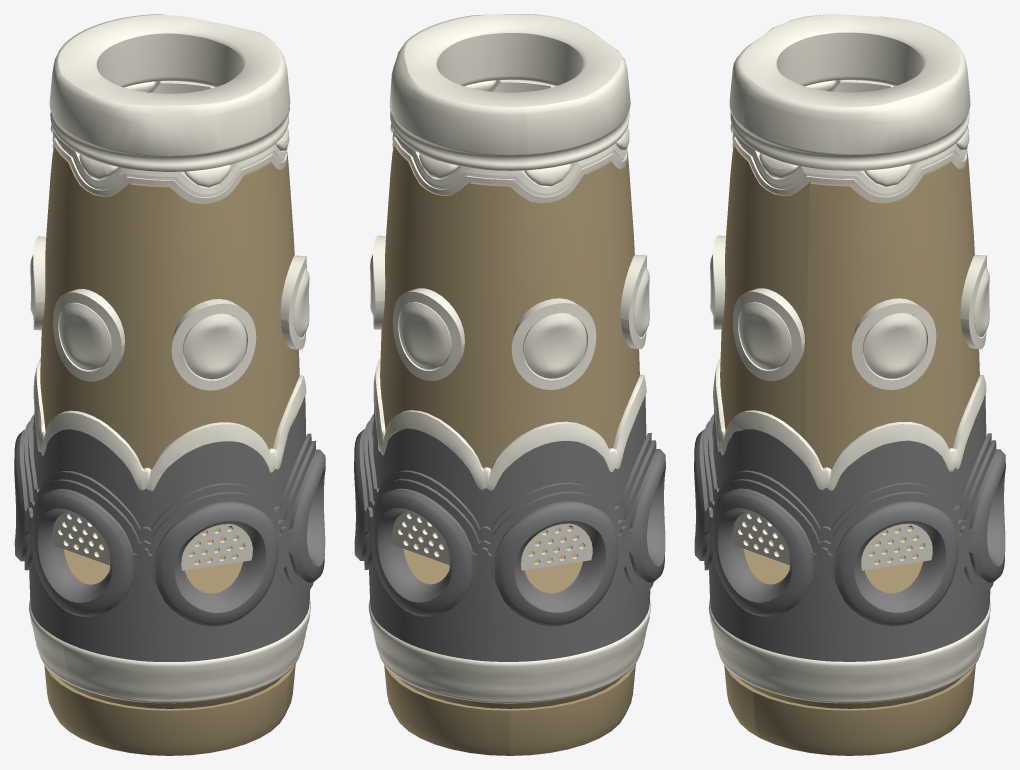
The model's file is Pot01.FBX.
3 views of the same model, side by side, from view 1: azimuth 30°, elevation 25°; view 2: azimuth 150°, elevation 25°; view 3: azimuth 270°, elevation 25° (orthographic).
Visible parts, largest first — view 1: pot01; view 2: pot01; view 3: pot01.
Boxes of the visible parts, left/top/right/bottom form: pot01: left=14, top=14, right=325, bottom=755; pot01: left=354, top=14, right=665, bottom=755; pot01: left=694, top=14, right=1005, bottom=755.
Bounding box in the file's own units: 1.59 × 3.66 × 1.59.
